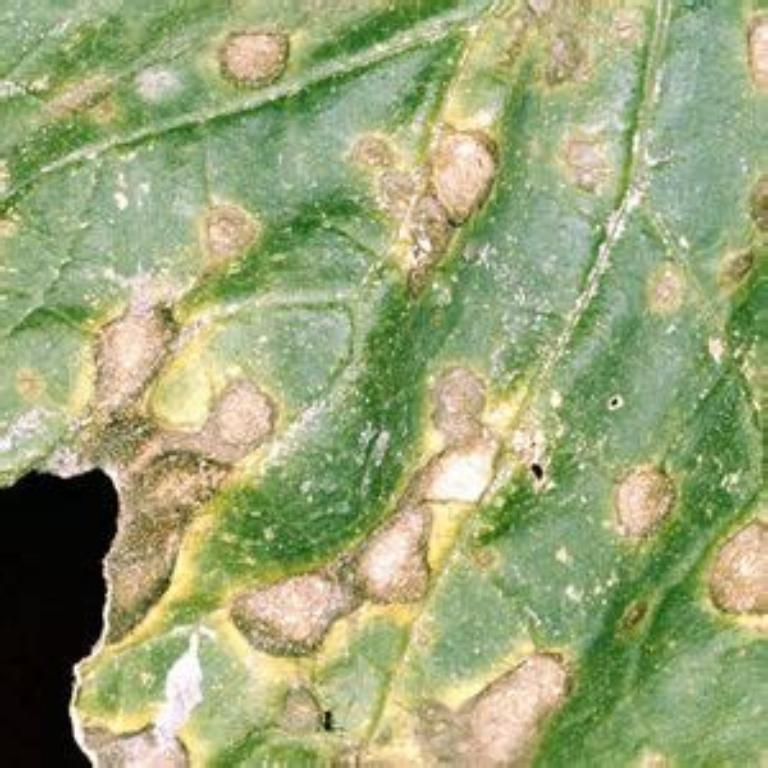blight: (113, 257, 465, 766)
